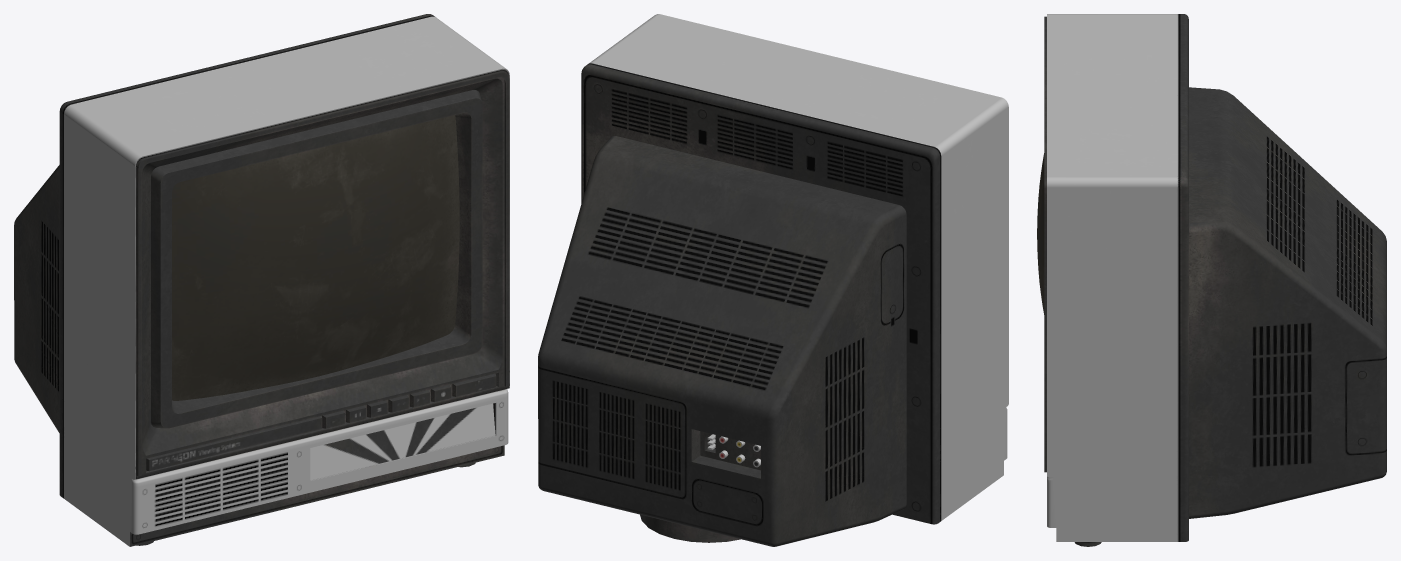
Rendered from television_02.glb.
The picture shows the model from 3 angles, left to right: view 1: azimuth 30°, elevation 25°; view 2: azimuth 150°, elevation 25°; view 3: azimuth 270°, elevation 25°; orthographic projection. The views are drawn at different scales.
Parts seen in each view (by area): view 1: television_2; view 2: television_2; view 3: television_2.
Boxes of the visible parts, x1=… form: television_2: x1=14, y1=14, x2=509, y2=546; television_2: x1=538, y1=14, x2=1008, y2=546; television_2: x1=1037, y1=14, x2=1386, y2=546.
Size of the model in its own units: 0.3997 by 0.4114 by 0.3502.
1 material, 1 textured.
